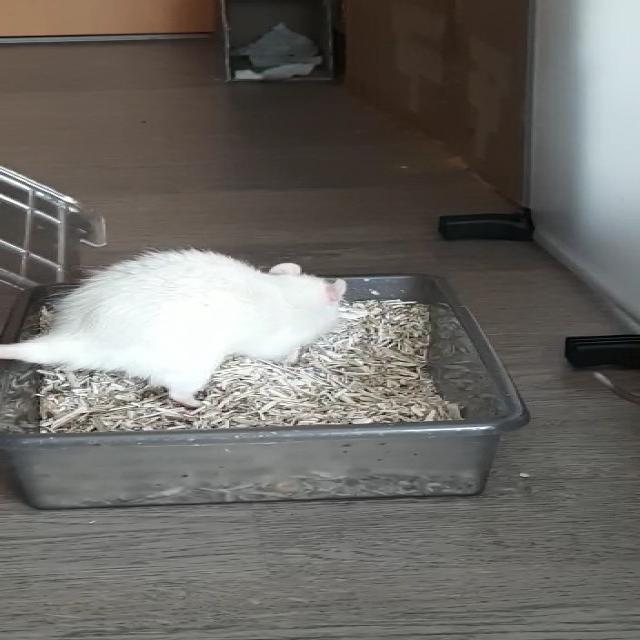rat: (59, 248, 349, 410)
